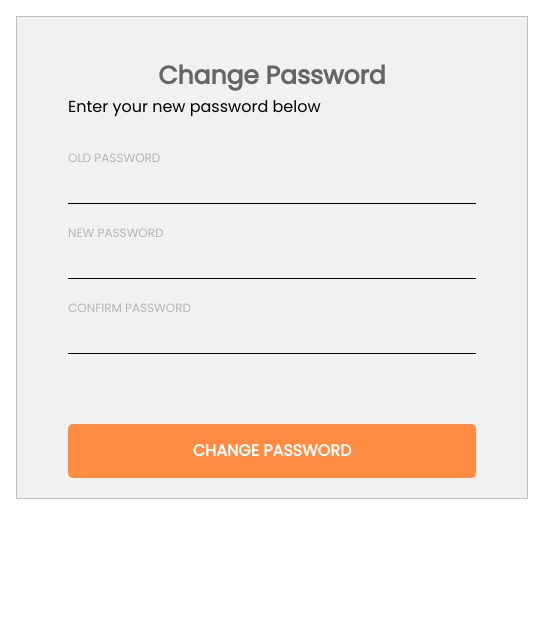
Test: should test  change password component › should test empty fields
Click the button "CHANGE PASSWORD" at (272, 450), box x1=68 y1=424 x2=476 y2=478
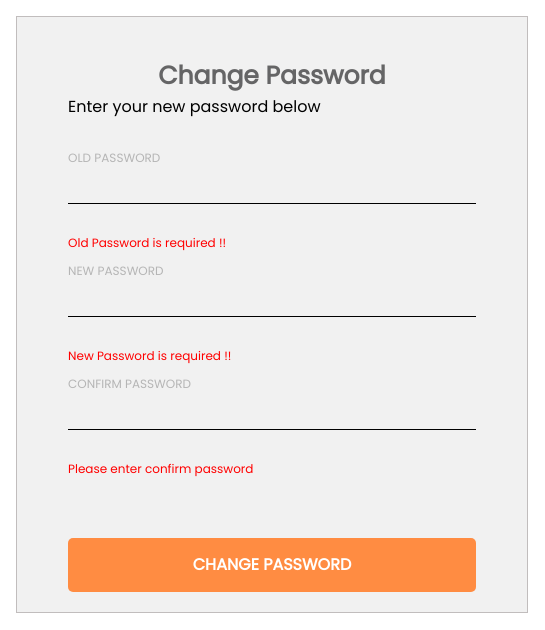
Now the text with test id "div1" reads "Old Password is required !!", box x1=68 y1=234 x2=226 y2=250
